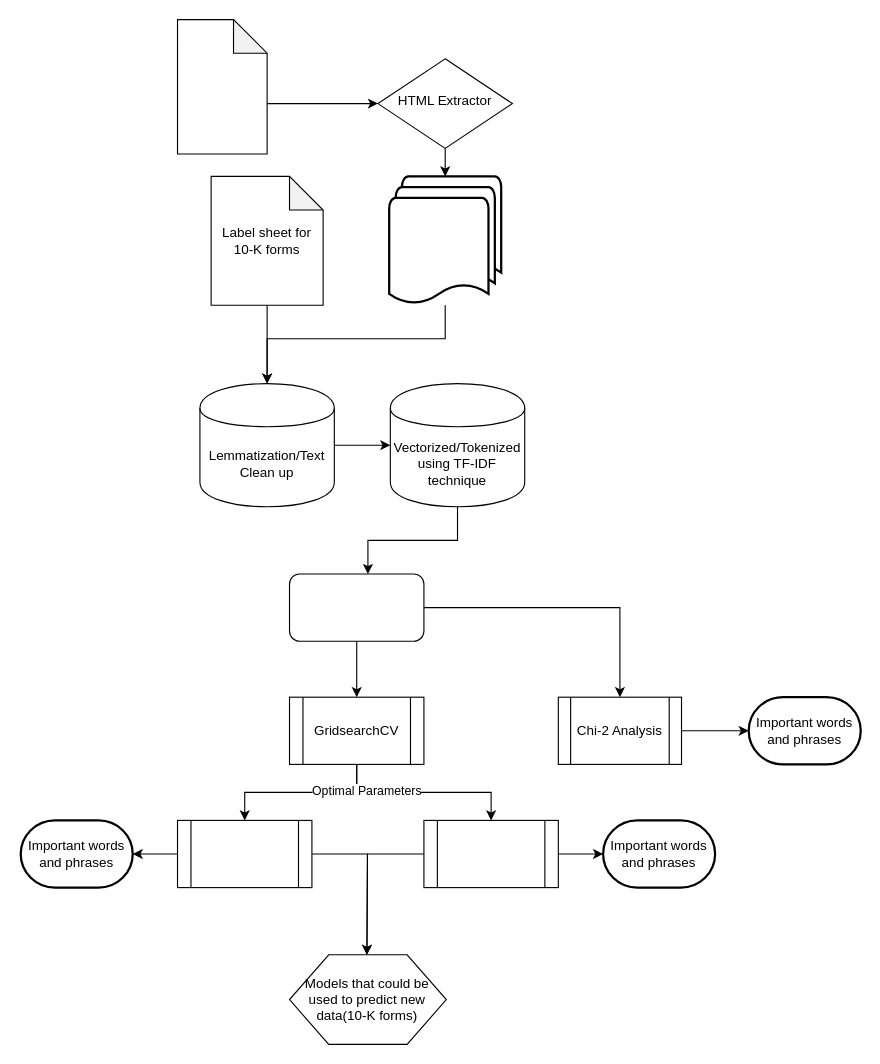
Some shapes in this 880 by 1064 pixel diagram are drawn without their labels. The shapes that lost their labels are listed below. From the top down, each one's centre as x and y in pixels, then its label:
[221,86]: Raw 10-K forms
[445,240]: 10-K forms with Section 8 extracted
[356,607]: Training and Test data
[244,853]: Linear Support Vector Machine Analysis
[490,853]: Naive Bayes Analysis
